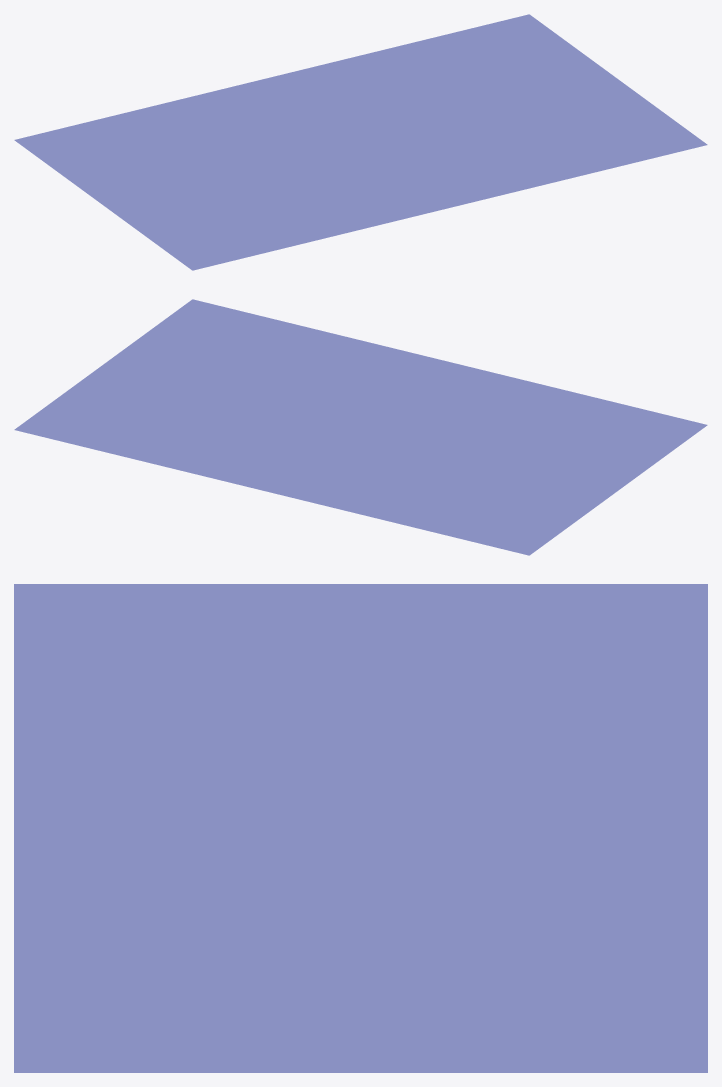
The model's file is Floor_5x_3x.FBX.
3 renders of one model, top to bottom at view 1: azimuth 30°, elevation 25°; view 2: azimuth 150°, elevation 25°; view 3: azimuth 270°, elevation 25°, orthographic. The views are drawn at different scales.
Visible parts, largest first — view 1: Floor_5x_3x; view 2: Floor_5x_3x; view 3: Floor_5x_3x.
Part boxes in pixels (bbox=[...]): Floor_5x_3x: bbox=[14, 14, 707, 270]; Floor_5x_3x: bbox=[14, 299, 707, 555]; Floor_5x_3x: bbox=[14, 584, 707, 1072].
Bounding box in the file's own units: 500 × 300 × 1.31e-05.
